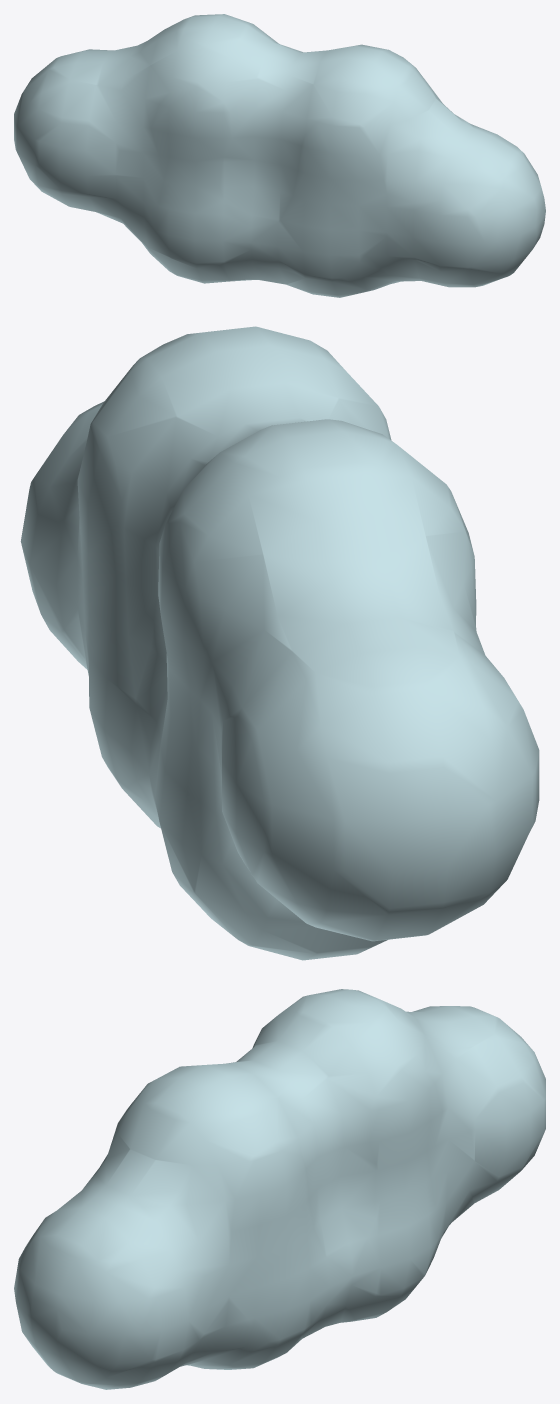
The model's file is Clouds.fbx.
The picture shows the model from 3 angles, top to bottom: view 1: azimuth 30°, elevation 25°; view 2: azimuth 150°, elevation 25°; view 3: azimuth 270°, elevation 25°; orthographic projection. The views are drawn at different scales.
Parts seen in each view (by area): view 1: Mball; view 2: Mball; view 3: Mball.
Boxes of the visible parts, x1=… form: Mball: x1=14, y1=14, x2=545, y2=297; Mball: x1=20, y1=326, x2=539, y2=960; Mball: x1=14, y1=989, x2=545, y2=1389.
Size of the model in its own units: 612 by 399 by 613.
